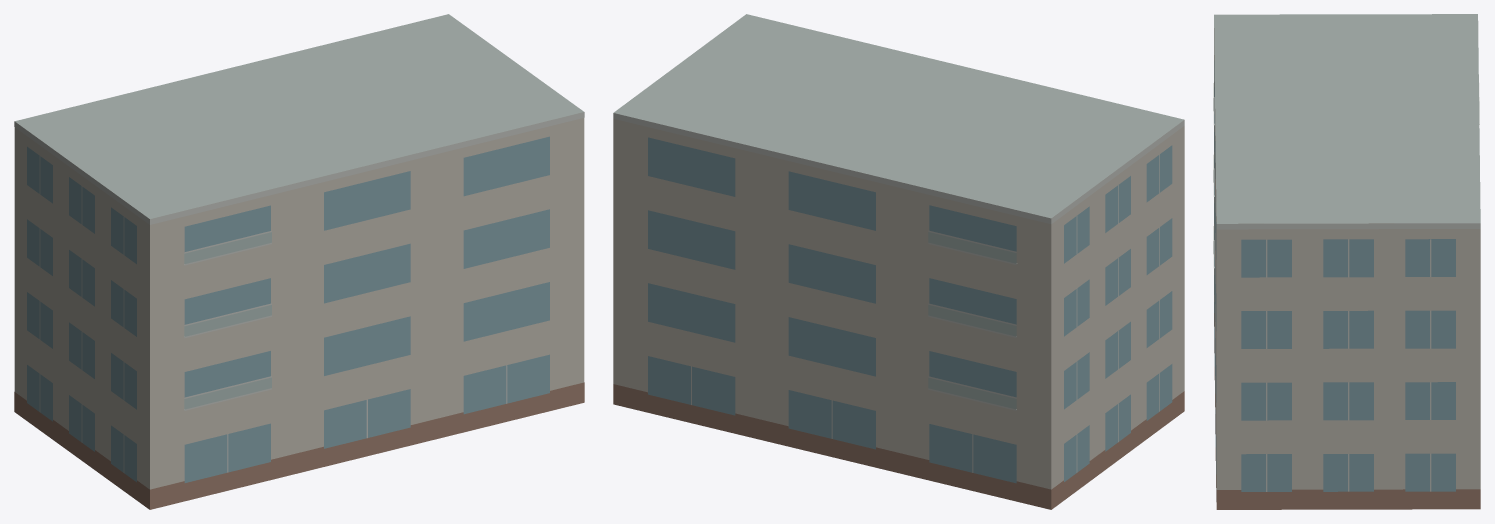
The model's file is residential-256f2ee0-a183-441d-a8a8-6233abf4657d.glb.
3 views of the same model, side by side, from view 1: azimuth 30°, elevation 25°; view 2: azimuth 150°, elevation 25°; view 3: azimuth 270°, elevation 25° (orthographic).
Parts seen in each view (by area): view 1: residential-256f2ee0-a183-441d-a8a8-6233abf4657d.tmp; view 2: residential-256f2ee0-a183-441d-a8a8-6233abf4657d.tmp; view 3: residential-256f2ee0-a183-441d-a8a8-6233abf4657d.tmp.
Boxes of the visible parts, box(x1,y1,x2,y2) form: residential-256f2ee0-a183-441d-a8a8-6233abf4657d.tmp: box(14, 14, 584, 509); residential-256f2ee0-a183-441d-a8a8-6233abf4657d.tmp: box(613, 14, 1184, 509); residential-256f2ee0-a183-441d-a8a8-6233abf4657d.tmp: box(1213, 14, 1480, 509).
Size of the model in its own units: 19.2 by 12.2 by 10.35.
